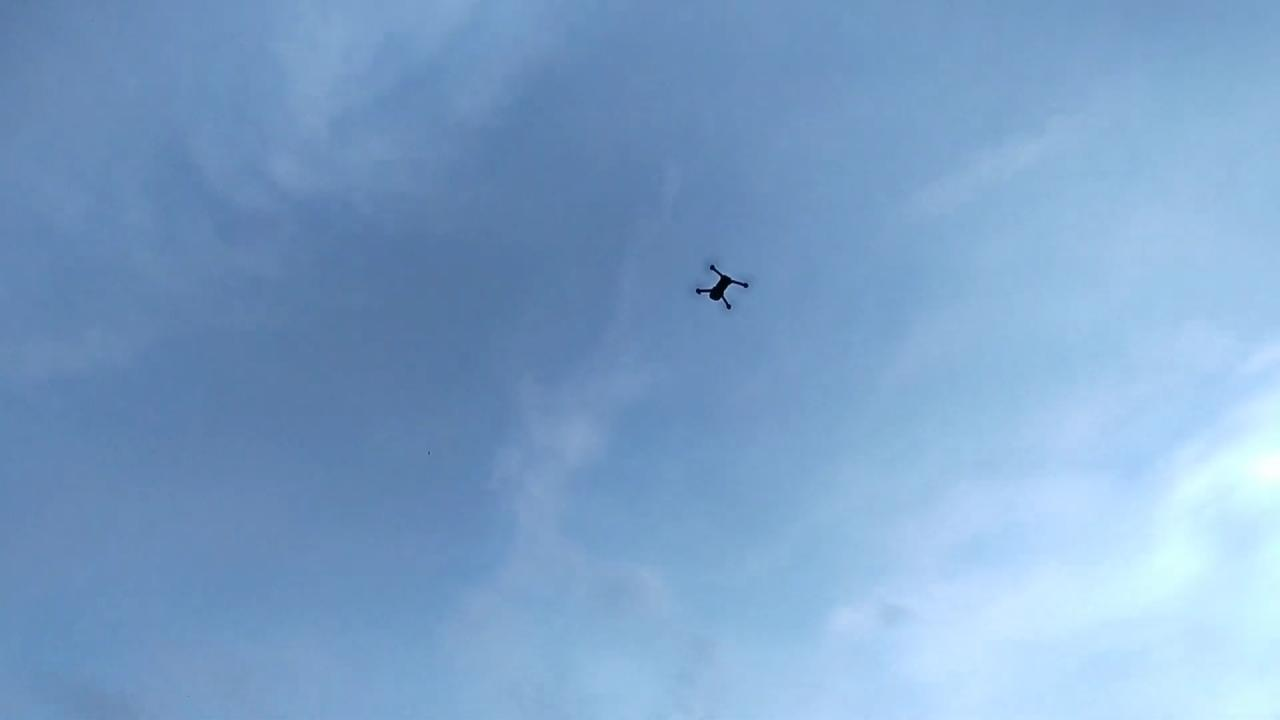Drone: (680, 247, 764, 325)
